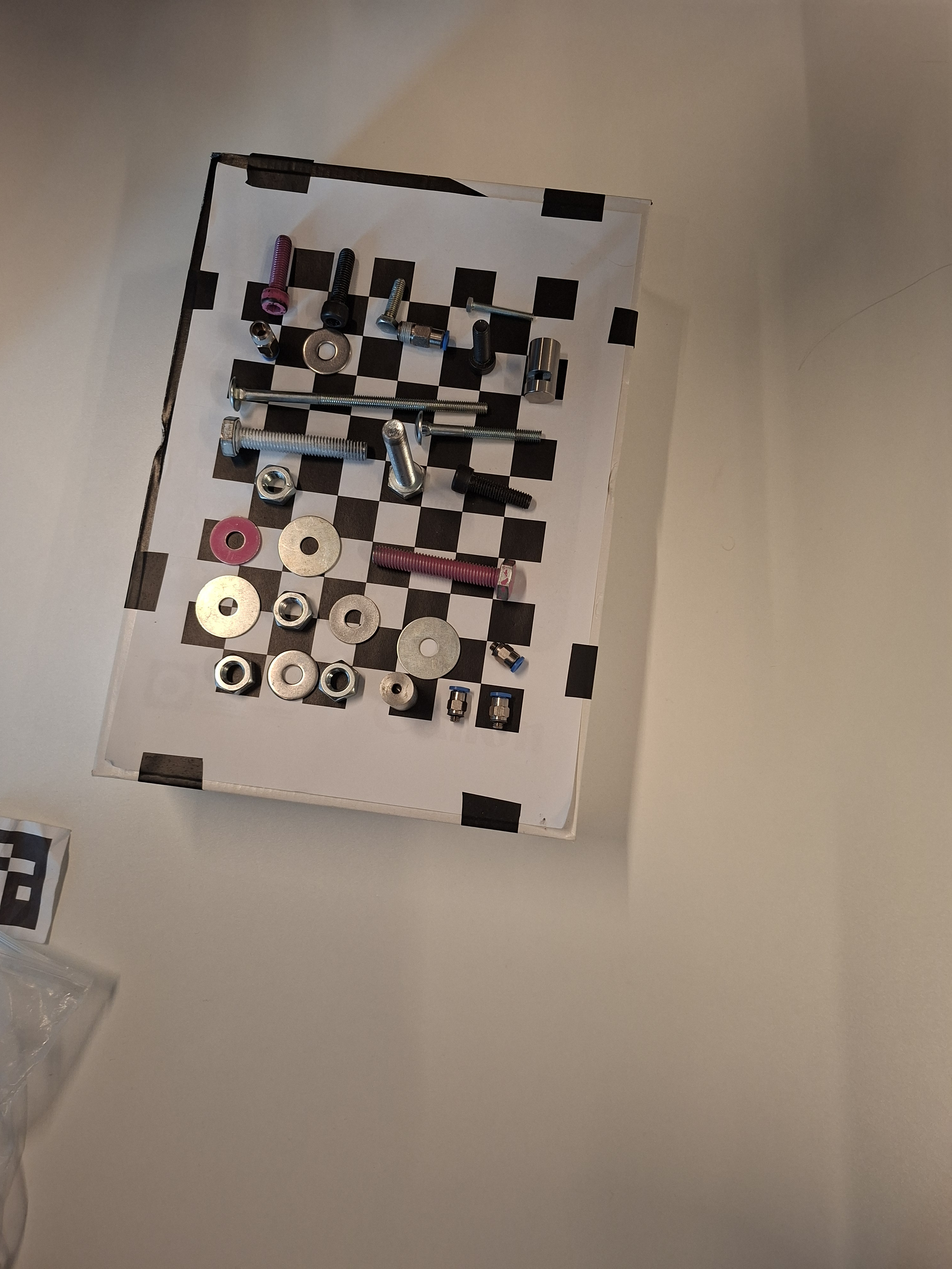allen_screw: (445, 457, 535, 521), (315, 240, 368, 331), (256, 229, 303, 317), (466, 316, 501, 376)
barrel_nut: (518, 334, 566, 408), (378, 668, 423, 715)
carriage_bolt: (222, 373, 491, 427), (411, 409, 550, 457)
hex_bolt: (369, 528, 521, 607), (218, 415, 375, 471), (359, 412, 438, 512), (368, 271, 415, 338), (460, 294, 542, 331)
hex_nut: (306, 649, 369, 712), (203, 646, 263, 707), (248, 460, 303, 510), (268, 589, 317, 632)
pneumatic_fitting: (243, 312, 289, 366), (393, 317, 456, 354), (485, 635, 530, 678), (440, 680, 473, 730), (485, 689, 514, 732)
washer: (272, 506, 348, 587), (395, 614, 471, 685), (195, 572, 265, 641), (328, 590, 382, 648), (266, 647, 320, 703), (299, 324, 354, 378), (210, 515, 266, 566)
